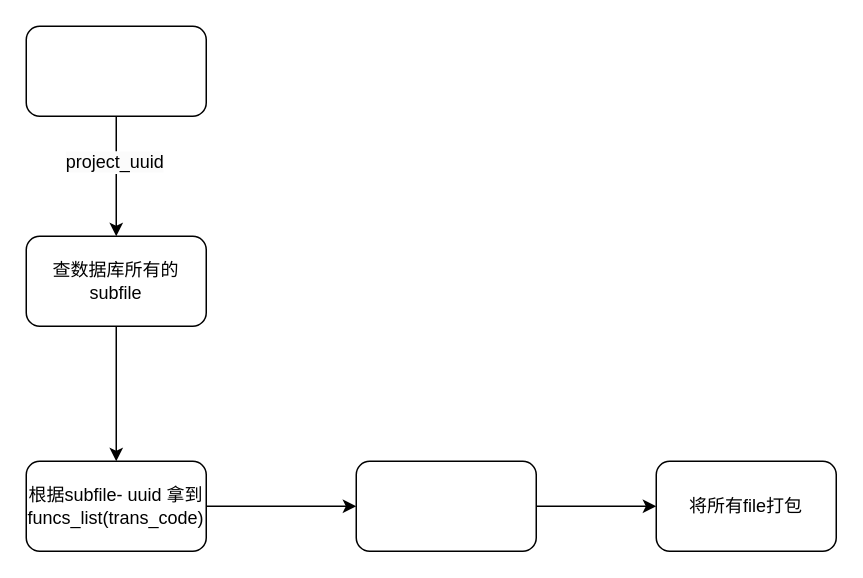
Image size: 863x578. Some labels were removed from this diagram. Each missing label, with the centre of its shape:
一个subfile的所有funcs，组合在一起，形成一个file: (x=445, y=505)
二进制导出: (x=115, y=70)
